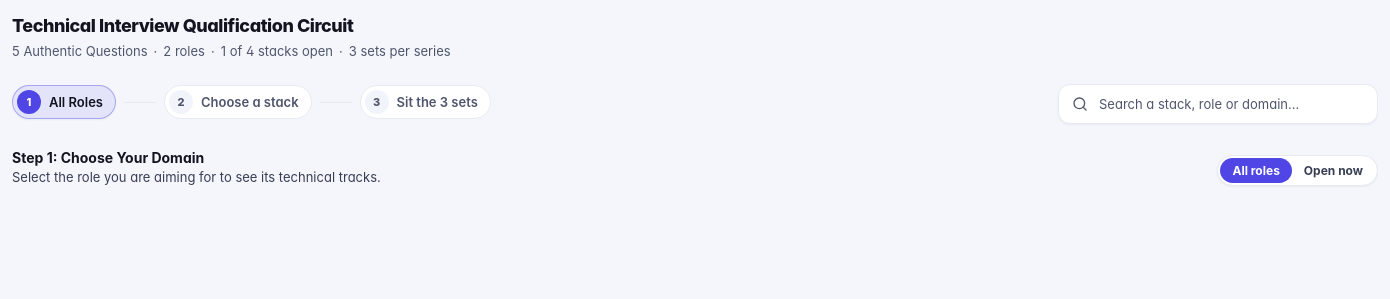
it: the domain picker › finds a track by the Mellow Vault domain name it covers, and lists open tracks first
The image size is (1390, 299).
Expected: the heading "Step 1: Choose Your Domain" is shown, x1=12 y1=149 x2=204 y2=166
In the field named "search stacks, roles and domains": coordinates (1218, 104) x1=1058 y1=84 x2=1378 y2=124, type "sql developer"
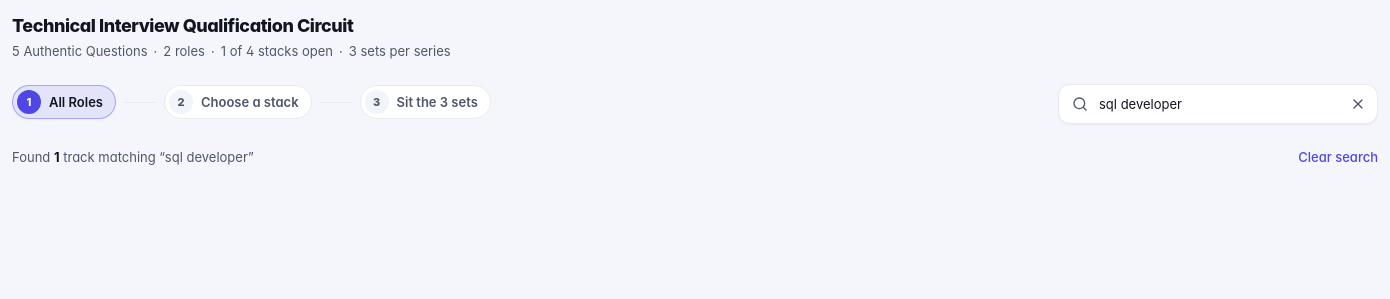
Expected: the text "Found 1 track matching “sql developer”" is shown, x1=12 y1=148 x2=254 y2=166
Replace the text in the field named "search stacks, roles and domains" with "php": coordinates (1218, 104) x1=1058 y1=84 x2=1378 y2=124
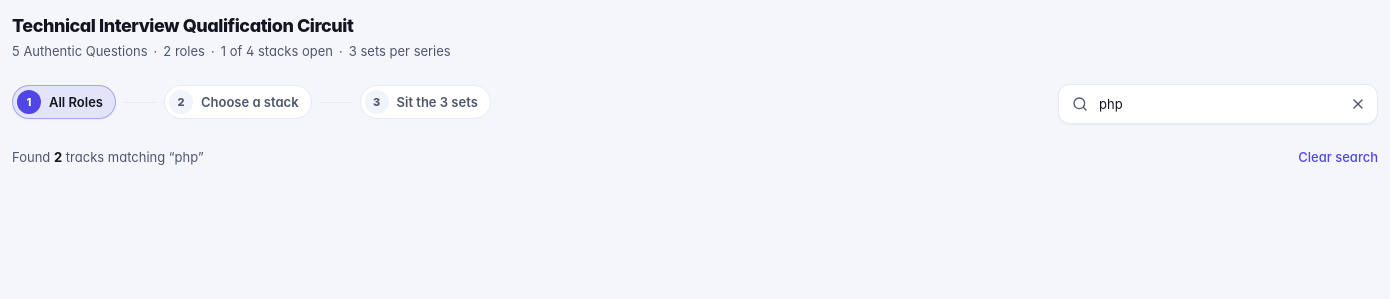
Replace the text in the field named "search stacks, roles and domains" with "developer": coordinates (1218, 104) x1=1058 y1=84 x2=1378 y2=124
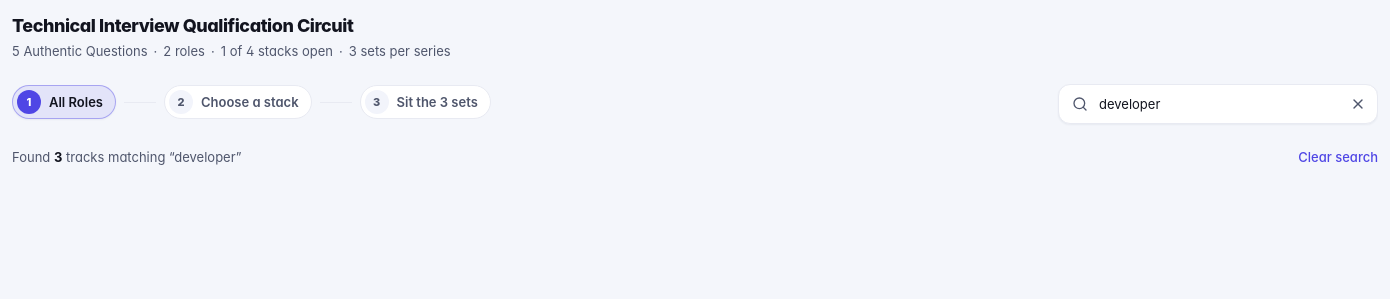
Replace the text in the field named "search stacks, roles and domains" with "zzzz": coordinates (1218, 104) x1=1058 y1=84 x2=1378 y2=124
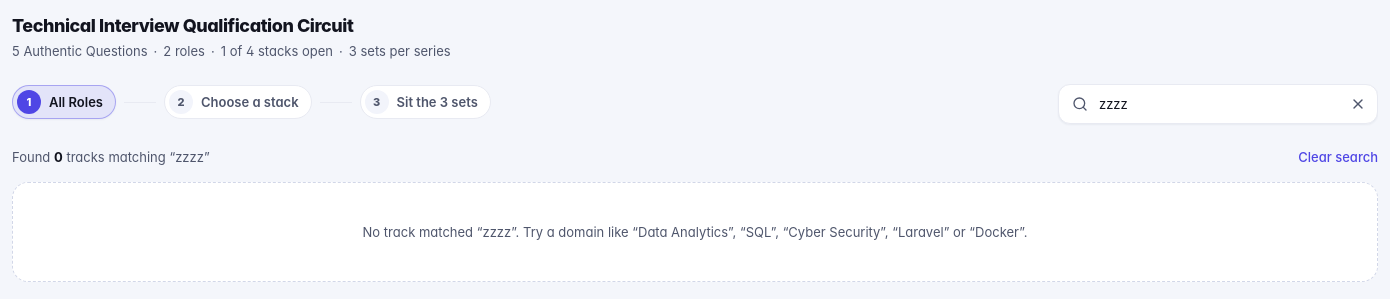
Expected: the text "No track matched" is shown, x1=363 y1=224 x2=482 y2=240
